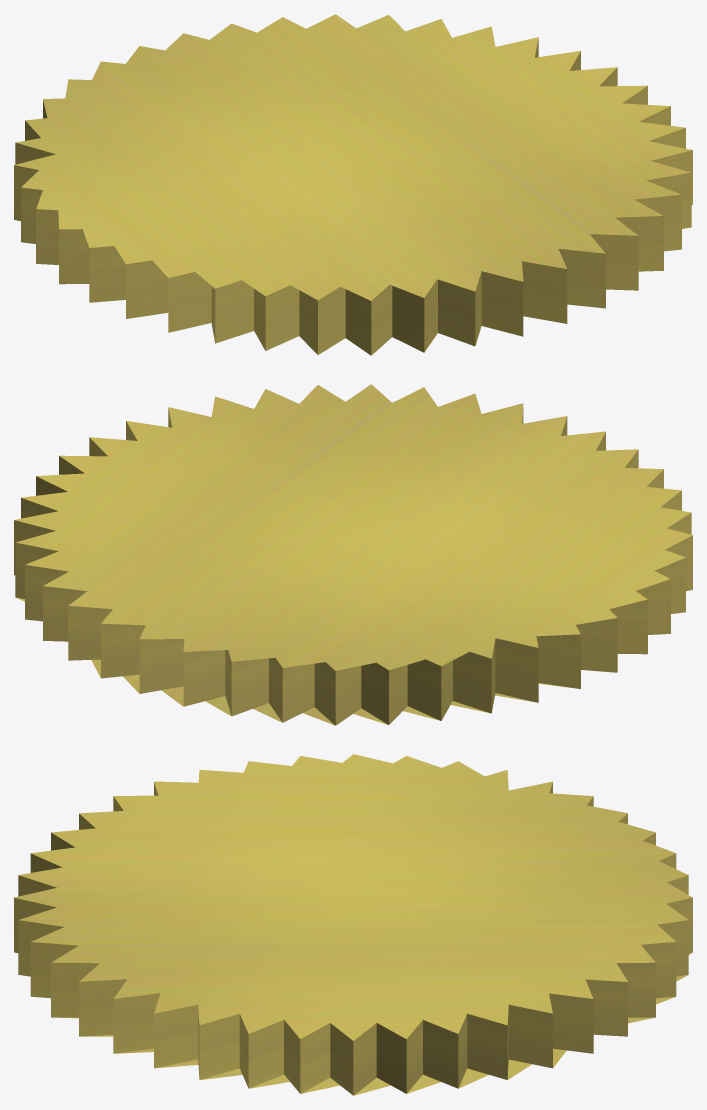
Rendered from ClockStraightFacet3Spoke040.fbx.
3 views of the same model, one above another, from view 1: azimuth 30°, elevation 25°; view 2: azimuth 150°, elevation 25°; view 3: azimuth 270°, elevation 25° (orthographic).
Visible parts, largest first — view 1: ClockStraightFacet3Spoke040; view 2: ClockStraightFacet3Spoke040; view 3: ClockStraightFacet3Spoke040.
Boxes of the visible parts, x1,y1,x2,y2 form: ClockStraightFacet3Spoke040: (14,14,692,355); ClockStraightFacet3Spoke040: (14,384,692,725); ClockStraightFacet3Spoke040: (14,754,692,1095).
Size of the model in its own units: 221 by 19.69 by 221.
